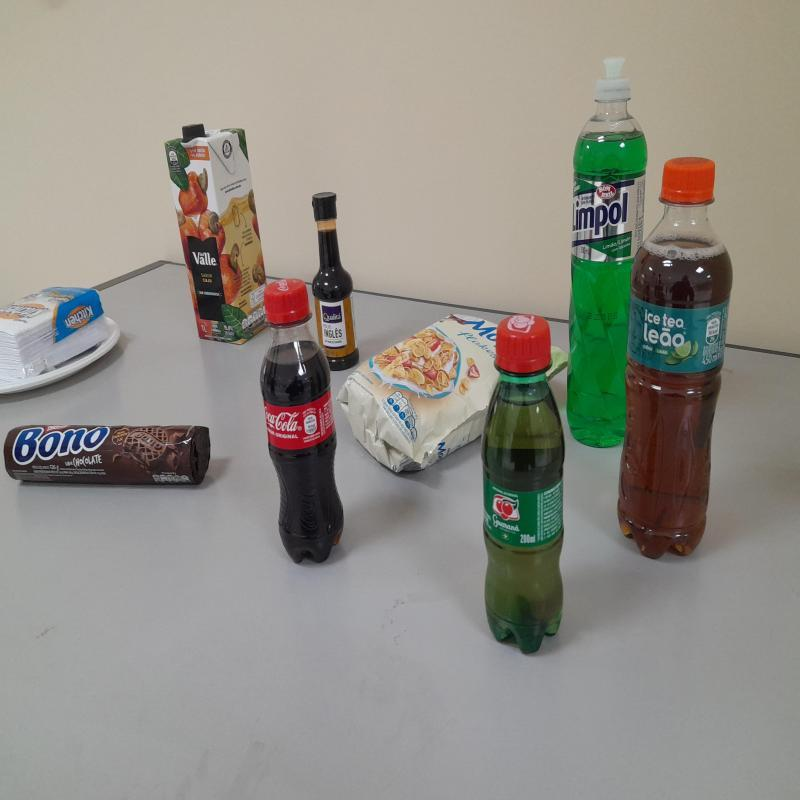Cleaner: (565, 59, 648, 452)
Coke: (259, 276, 346, 561)
Cookies: (3, 425, 211, 491)
CornFlakes: (337, 316, 500, 477)
EnglishSauce: (312, 190, 361, 372)
Guarana: (482, 313, 569, 654)
IceTea: (617, 157, 732, 560)
